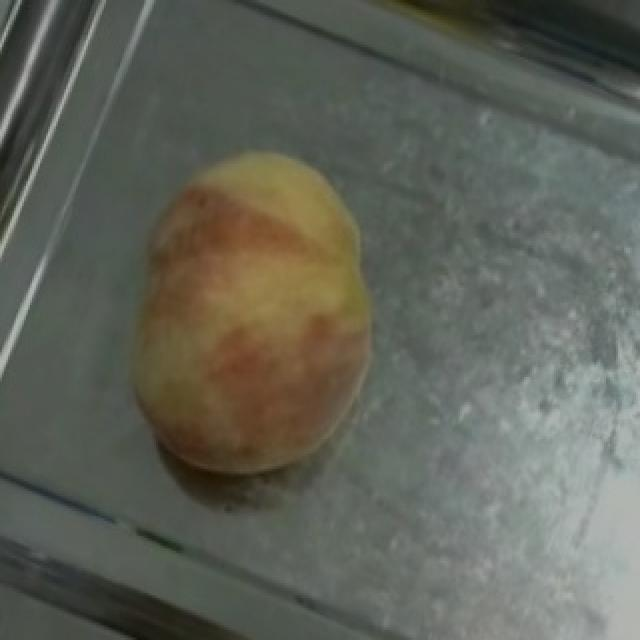Fruit: (96, 107, 422, 439)
